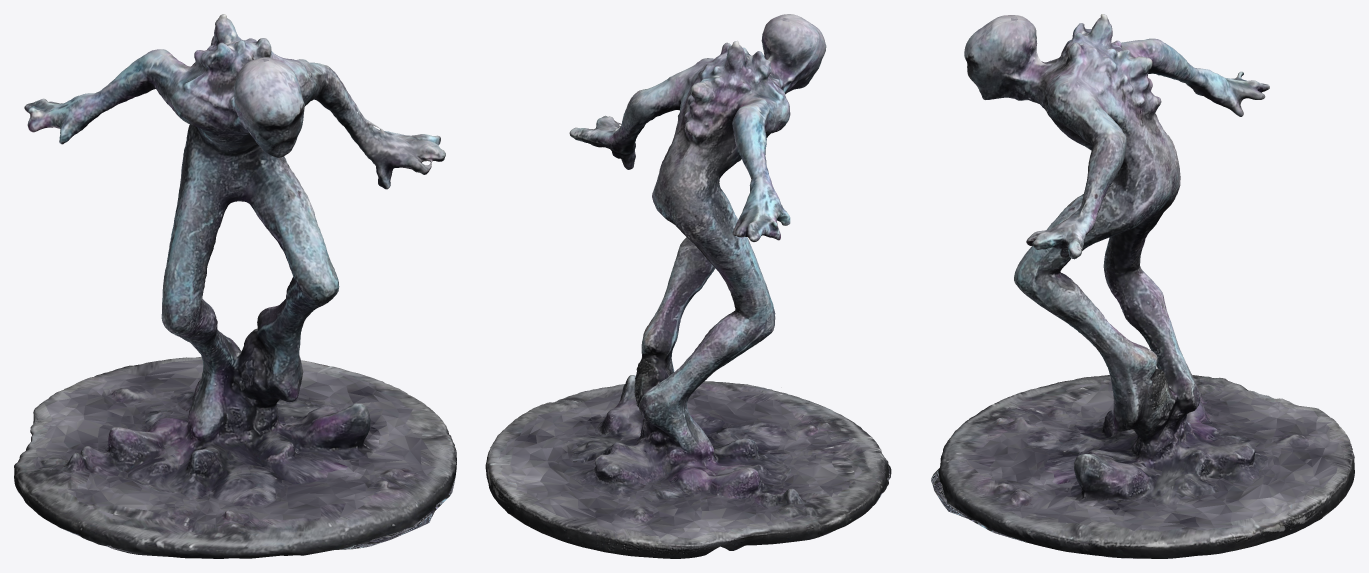
Rendered from Shards.glb.
The picture shows the model from 3 angles, left to right: view 1: azimuth 30°, elevation 25°; view 2: azimuth 150°, elevation 25°; view 3: azimuth 270°, elevation 25°; orthographic projection. The views are drawn at different scales.
Parts seen in each view (by area): view 1: shattersong; view 2: shattersong; view 3: shattersong.
Part boxes in pixels (x1,y1,x2,y2): shattersong: (14,14,456,558); shattersong: (485,14,891,558); shattersong: (931,14,1354,558).
Bounding box in the file's own units: 5.55 × 6.48 × 5.78.
1 material, 1 textured.
